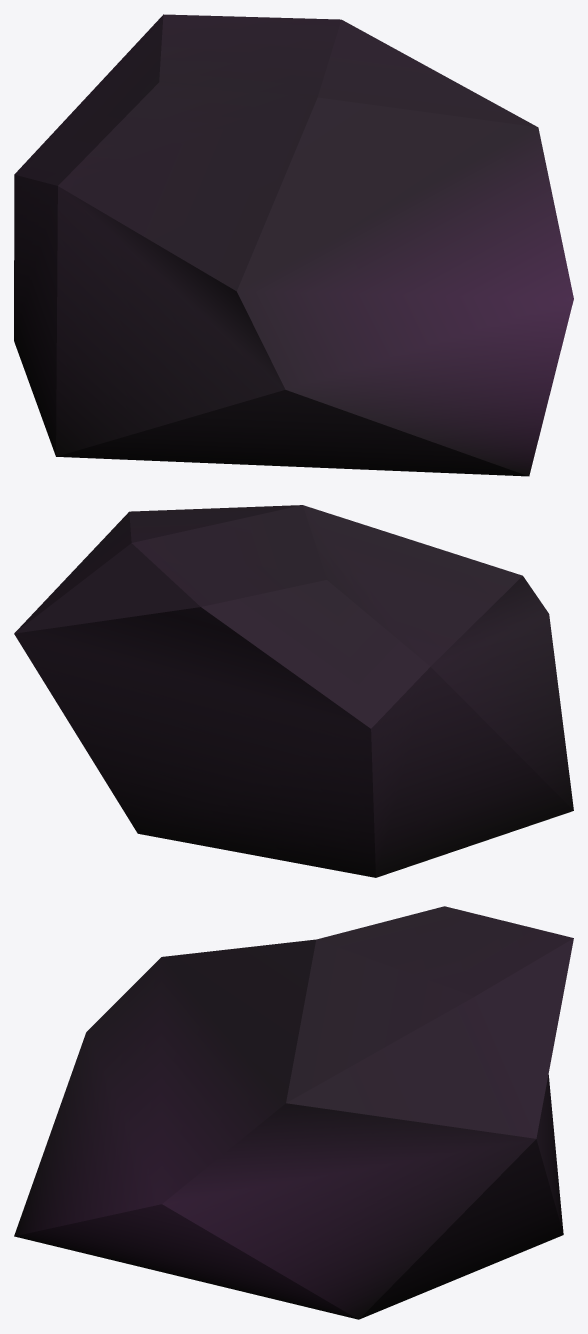
Rendered from RockPiece_1.fbx.
3 renders of one model, top to bottom at view 1: azimuth 30°, elevation 25°; view 2: azimuth 150°, elevation 25°; view 3: azimuth 270°, elevation 25°, orthographic. The views are drawn at different scales.
Parts seen in each view (by area): view 1: RockPiece_1; view 2: RockPiece_1; view 3: RockPiece_1.
Part boxes in pixels (x1,y1,x2,y2): RockPiece_1: [14, 14, 573, 476]; RockPiece_1: [14, 505, 573, 877]; RockPiece_1: [14, 906, 573, 1319].
Size of the model in its own units: 0.036 by 0.0188 by 0.0353.
